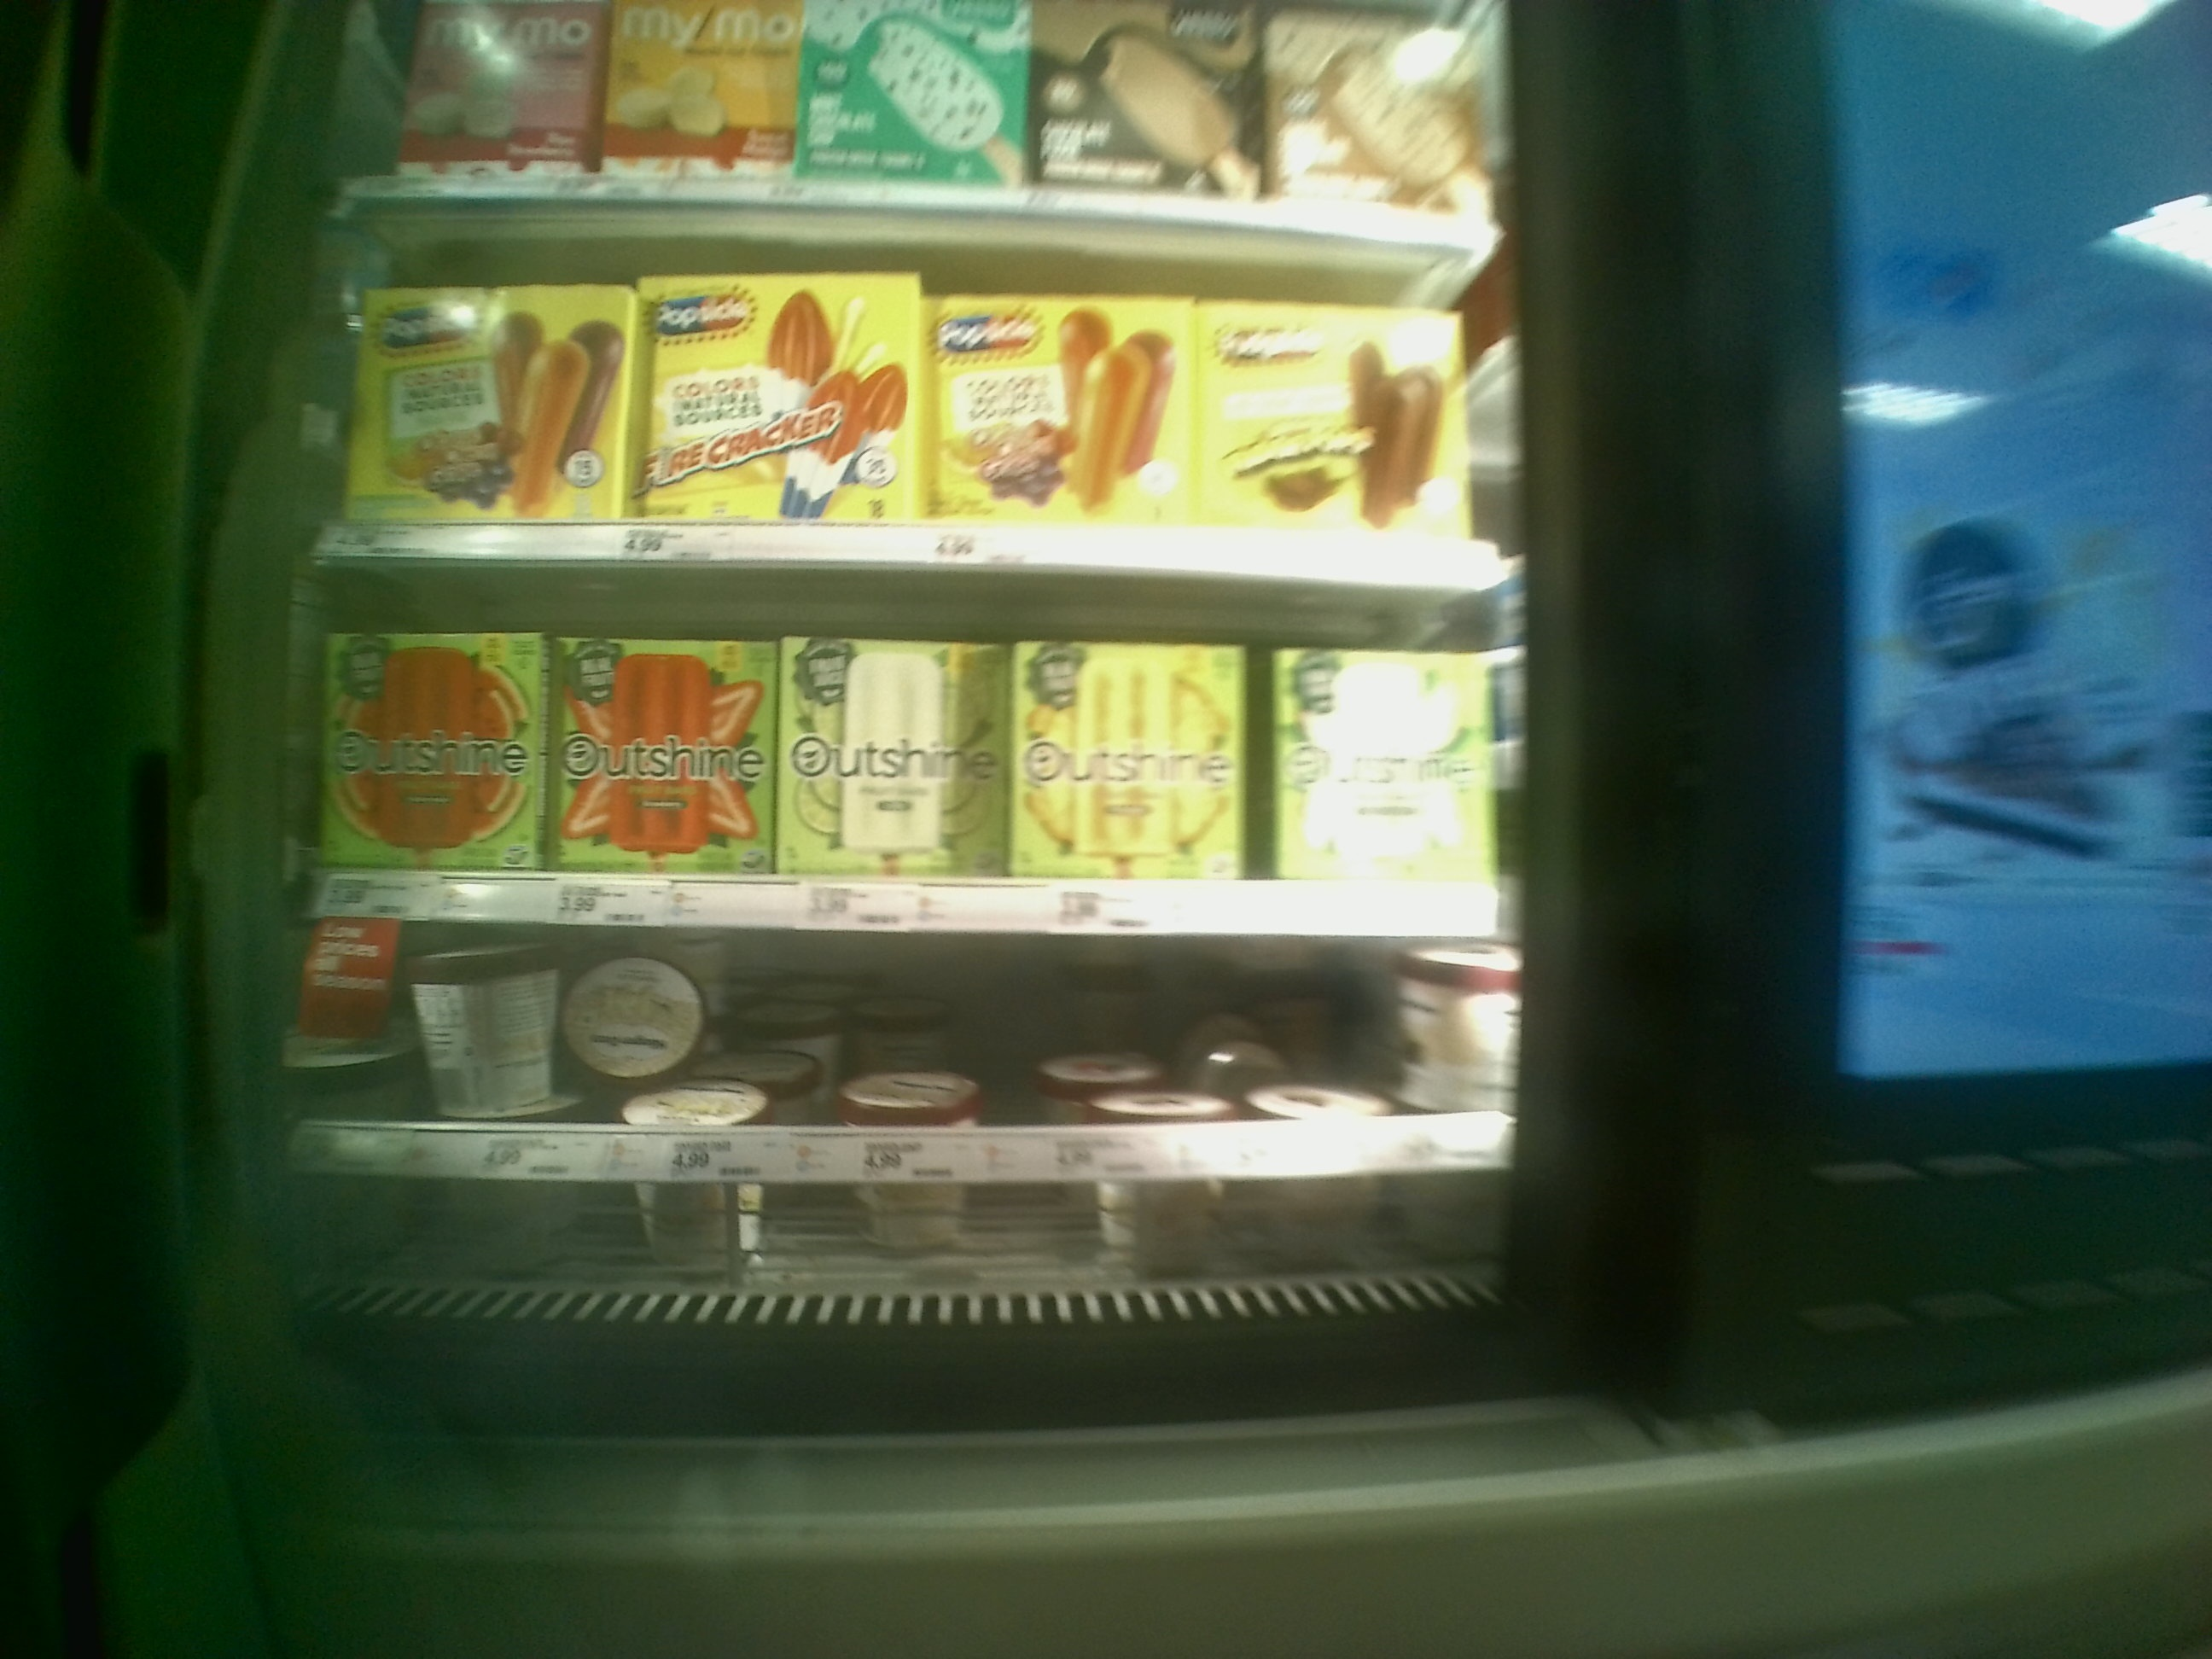ice-cream-shelf: (301, 566, 1515, 932), (301, 204, 1526, 566), (301, 922, 1515, 1175)
